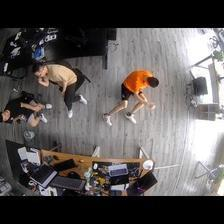fall: (102, 68, 160, 126)
normal: (34, 63, 89, 119)
